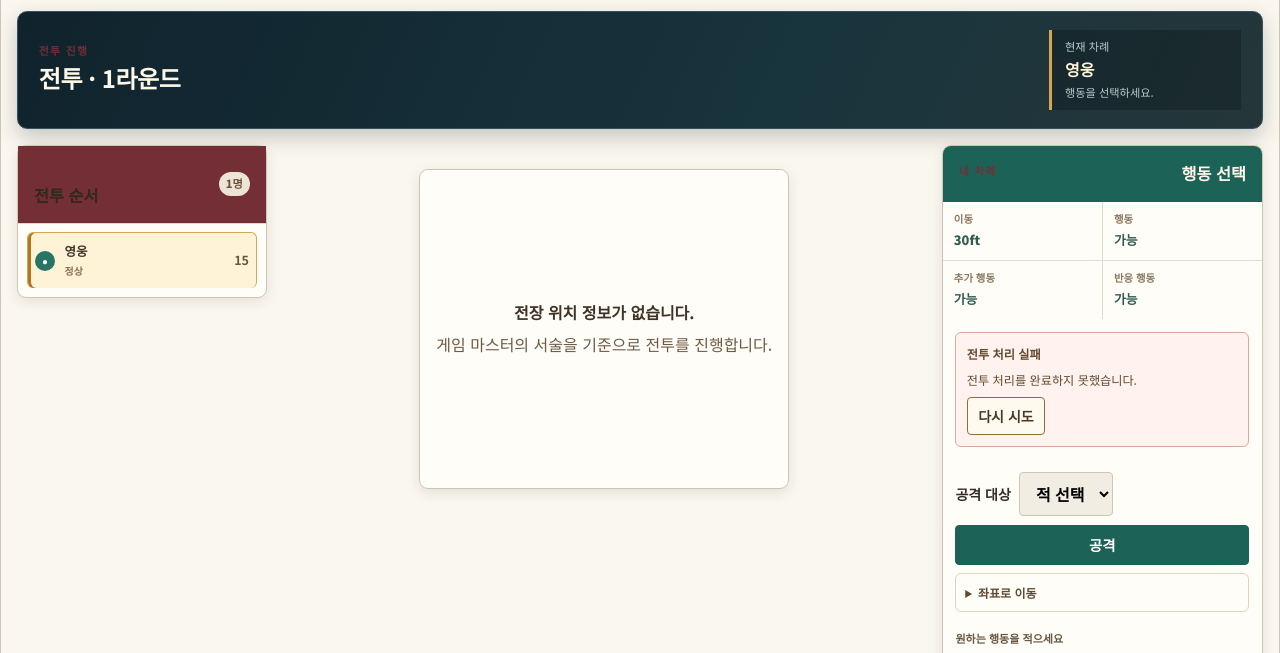
Test: CombatScreen › hides internal failure details and retries the available operation
Expected: the text "전투 처리를 완료하지 못했습니다." is shown, [967,371,1137,389]
Click the button "다시 시도" at (1006, 416), box [967,396,1045,435]
(page scrolled)
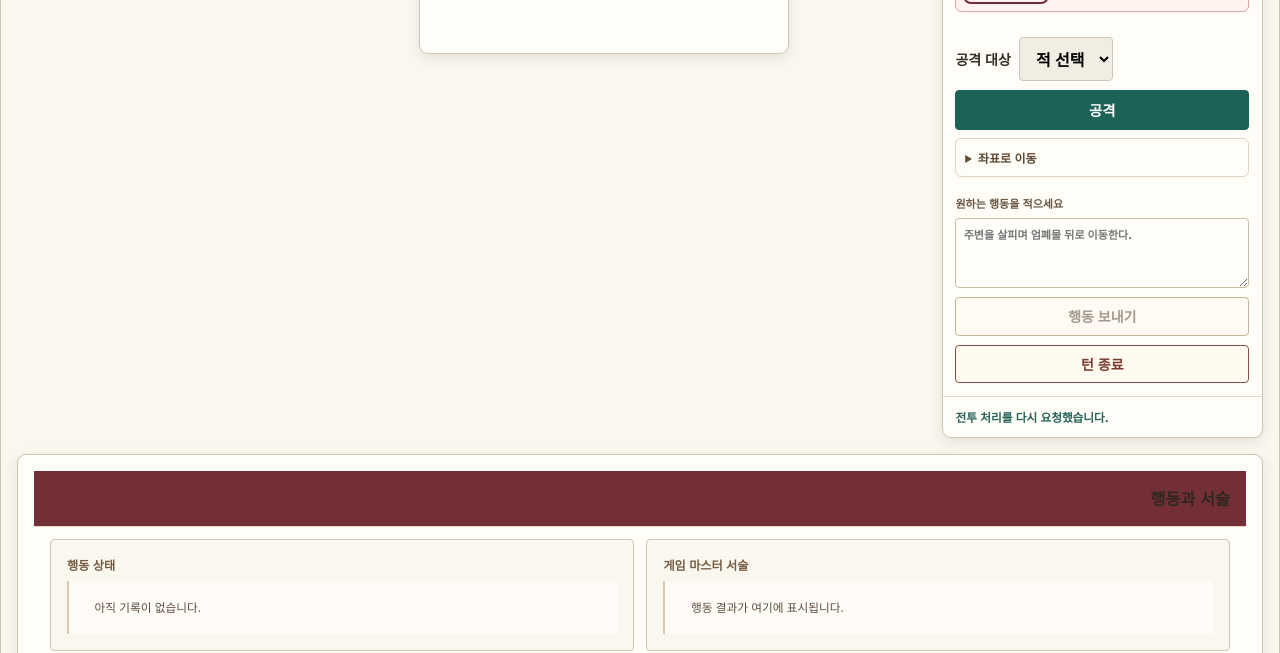
Now the message "전투 처리를 다시 요청했습니다." is shown, box [943,396,1262,437]
